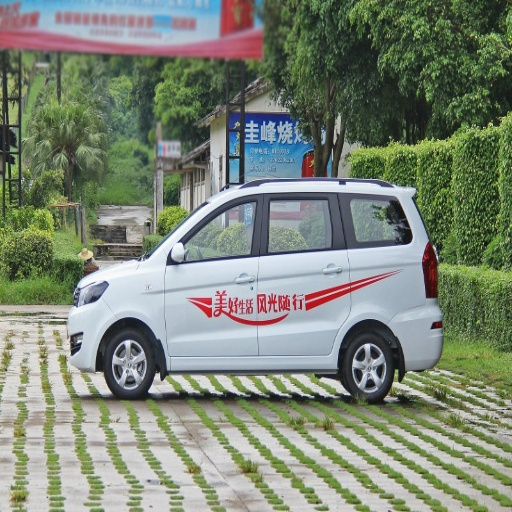back_bumper: (398, 323, 441, 368)
back_left_door: (260, 193, 350, 355)
front_left_door: (164, 194, 262, 355)
